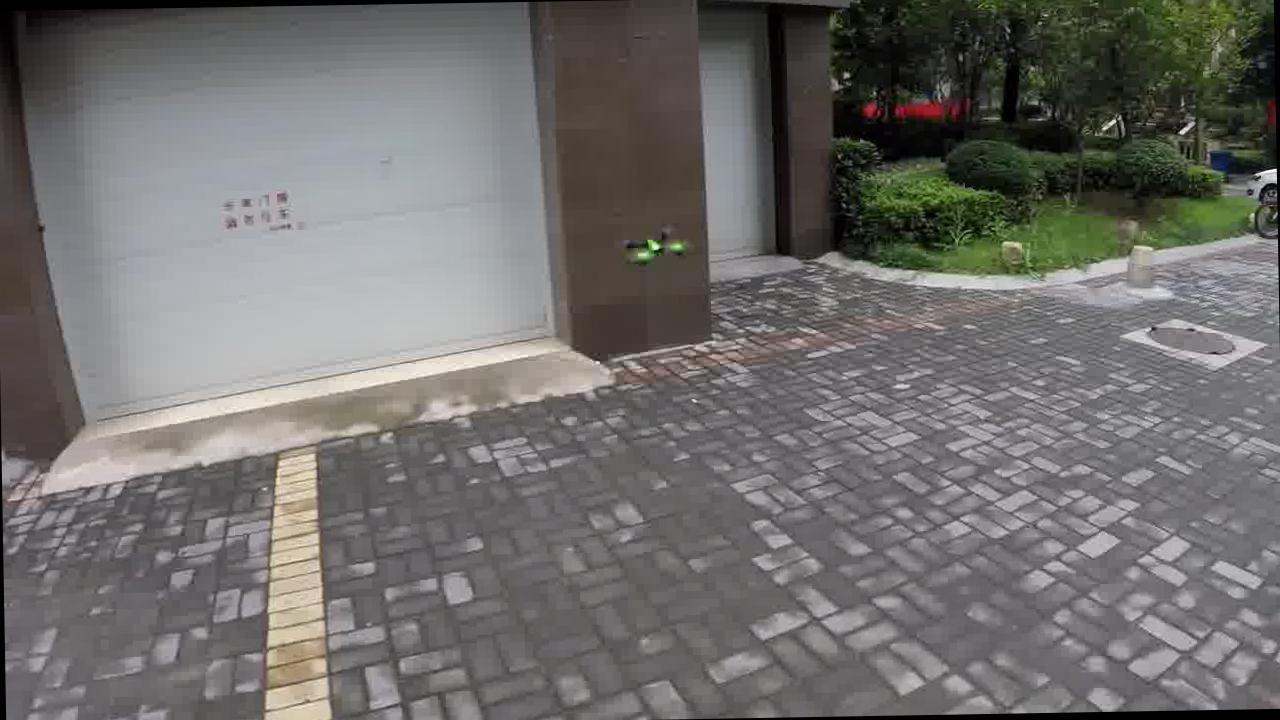drone: (600, 218, 696, 269)
